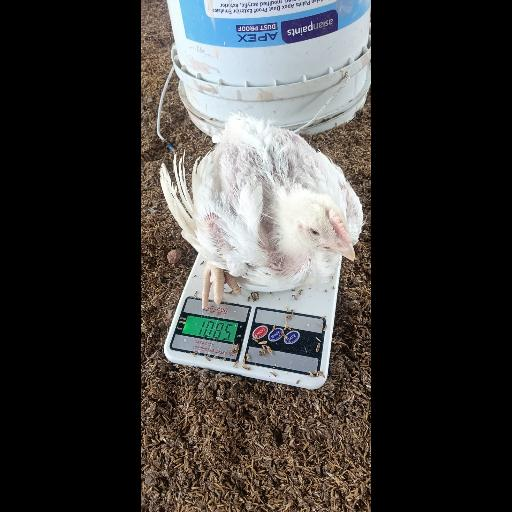chick: (174, 118, 358, 304)
